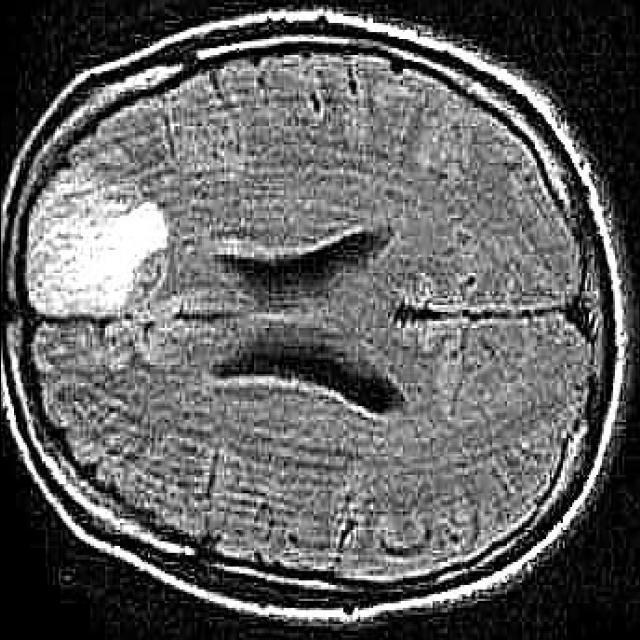tumor: (26, 167, 167, 319)
